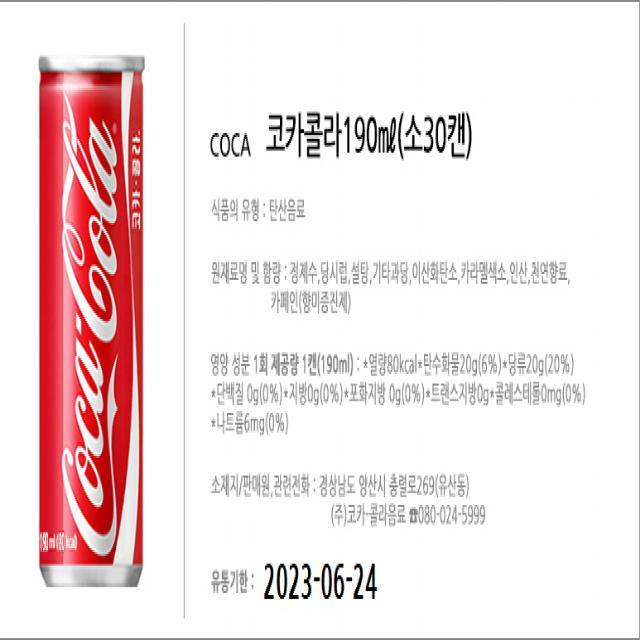coca-cola: (36, 48, 148, 600)
